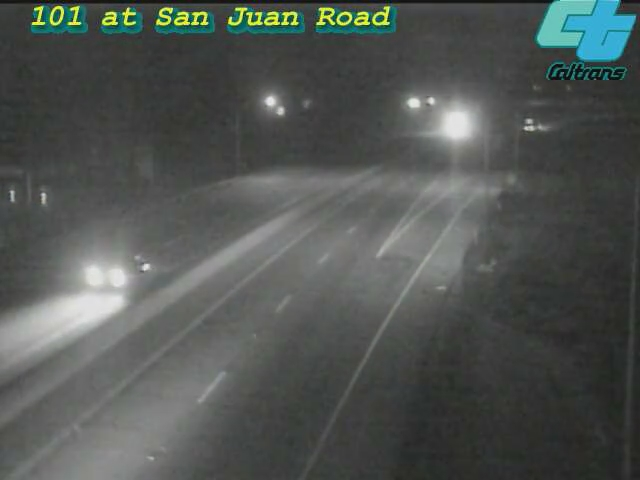vehicle: (66, 236, 146, 316), (430, 99, 480, 149), (507, 100, 557, 150)
